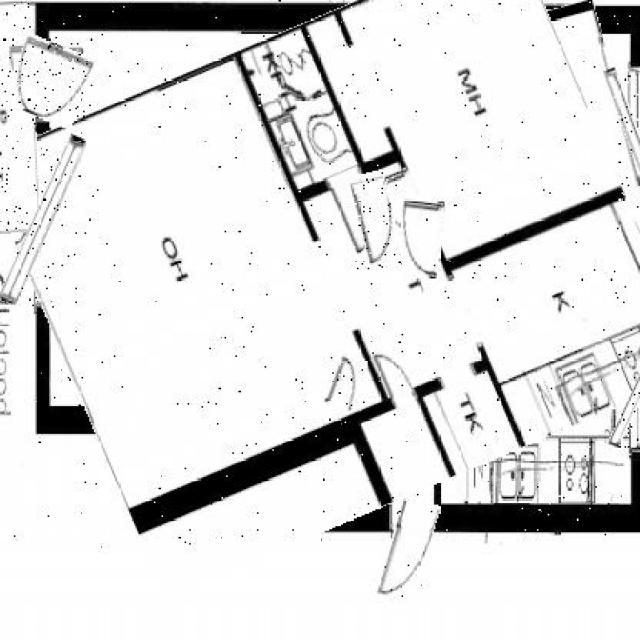door: (6, 39, 92, 124), (381, 498, 434, 610), (354, 171, 400, 271), (395, 197, 443, 278), (329, 355, 363, 411)
window: (15, 130, 70, 308), (615, 65, 640, 209), (618, 343, 640, 449)
zone: (14, 0, 640, 549), (384, 10, 640, 315), (322, 25, 402, 182), (0, 1, 35, 232)
